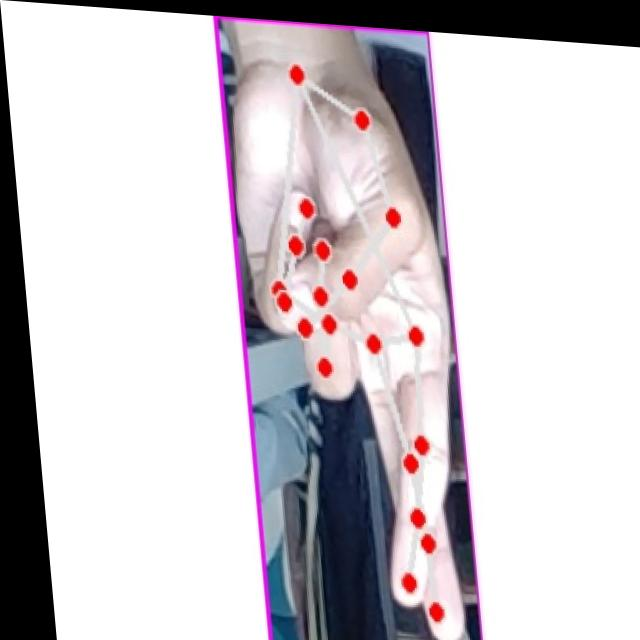R: (228, 44, 457, 640)
